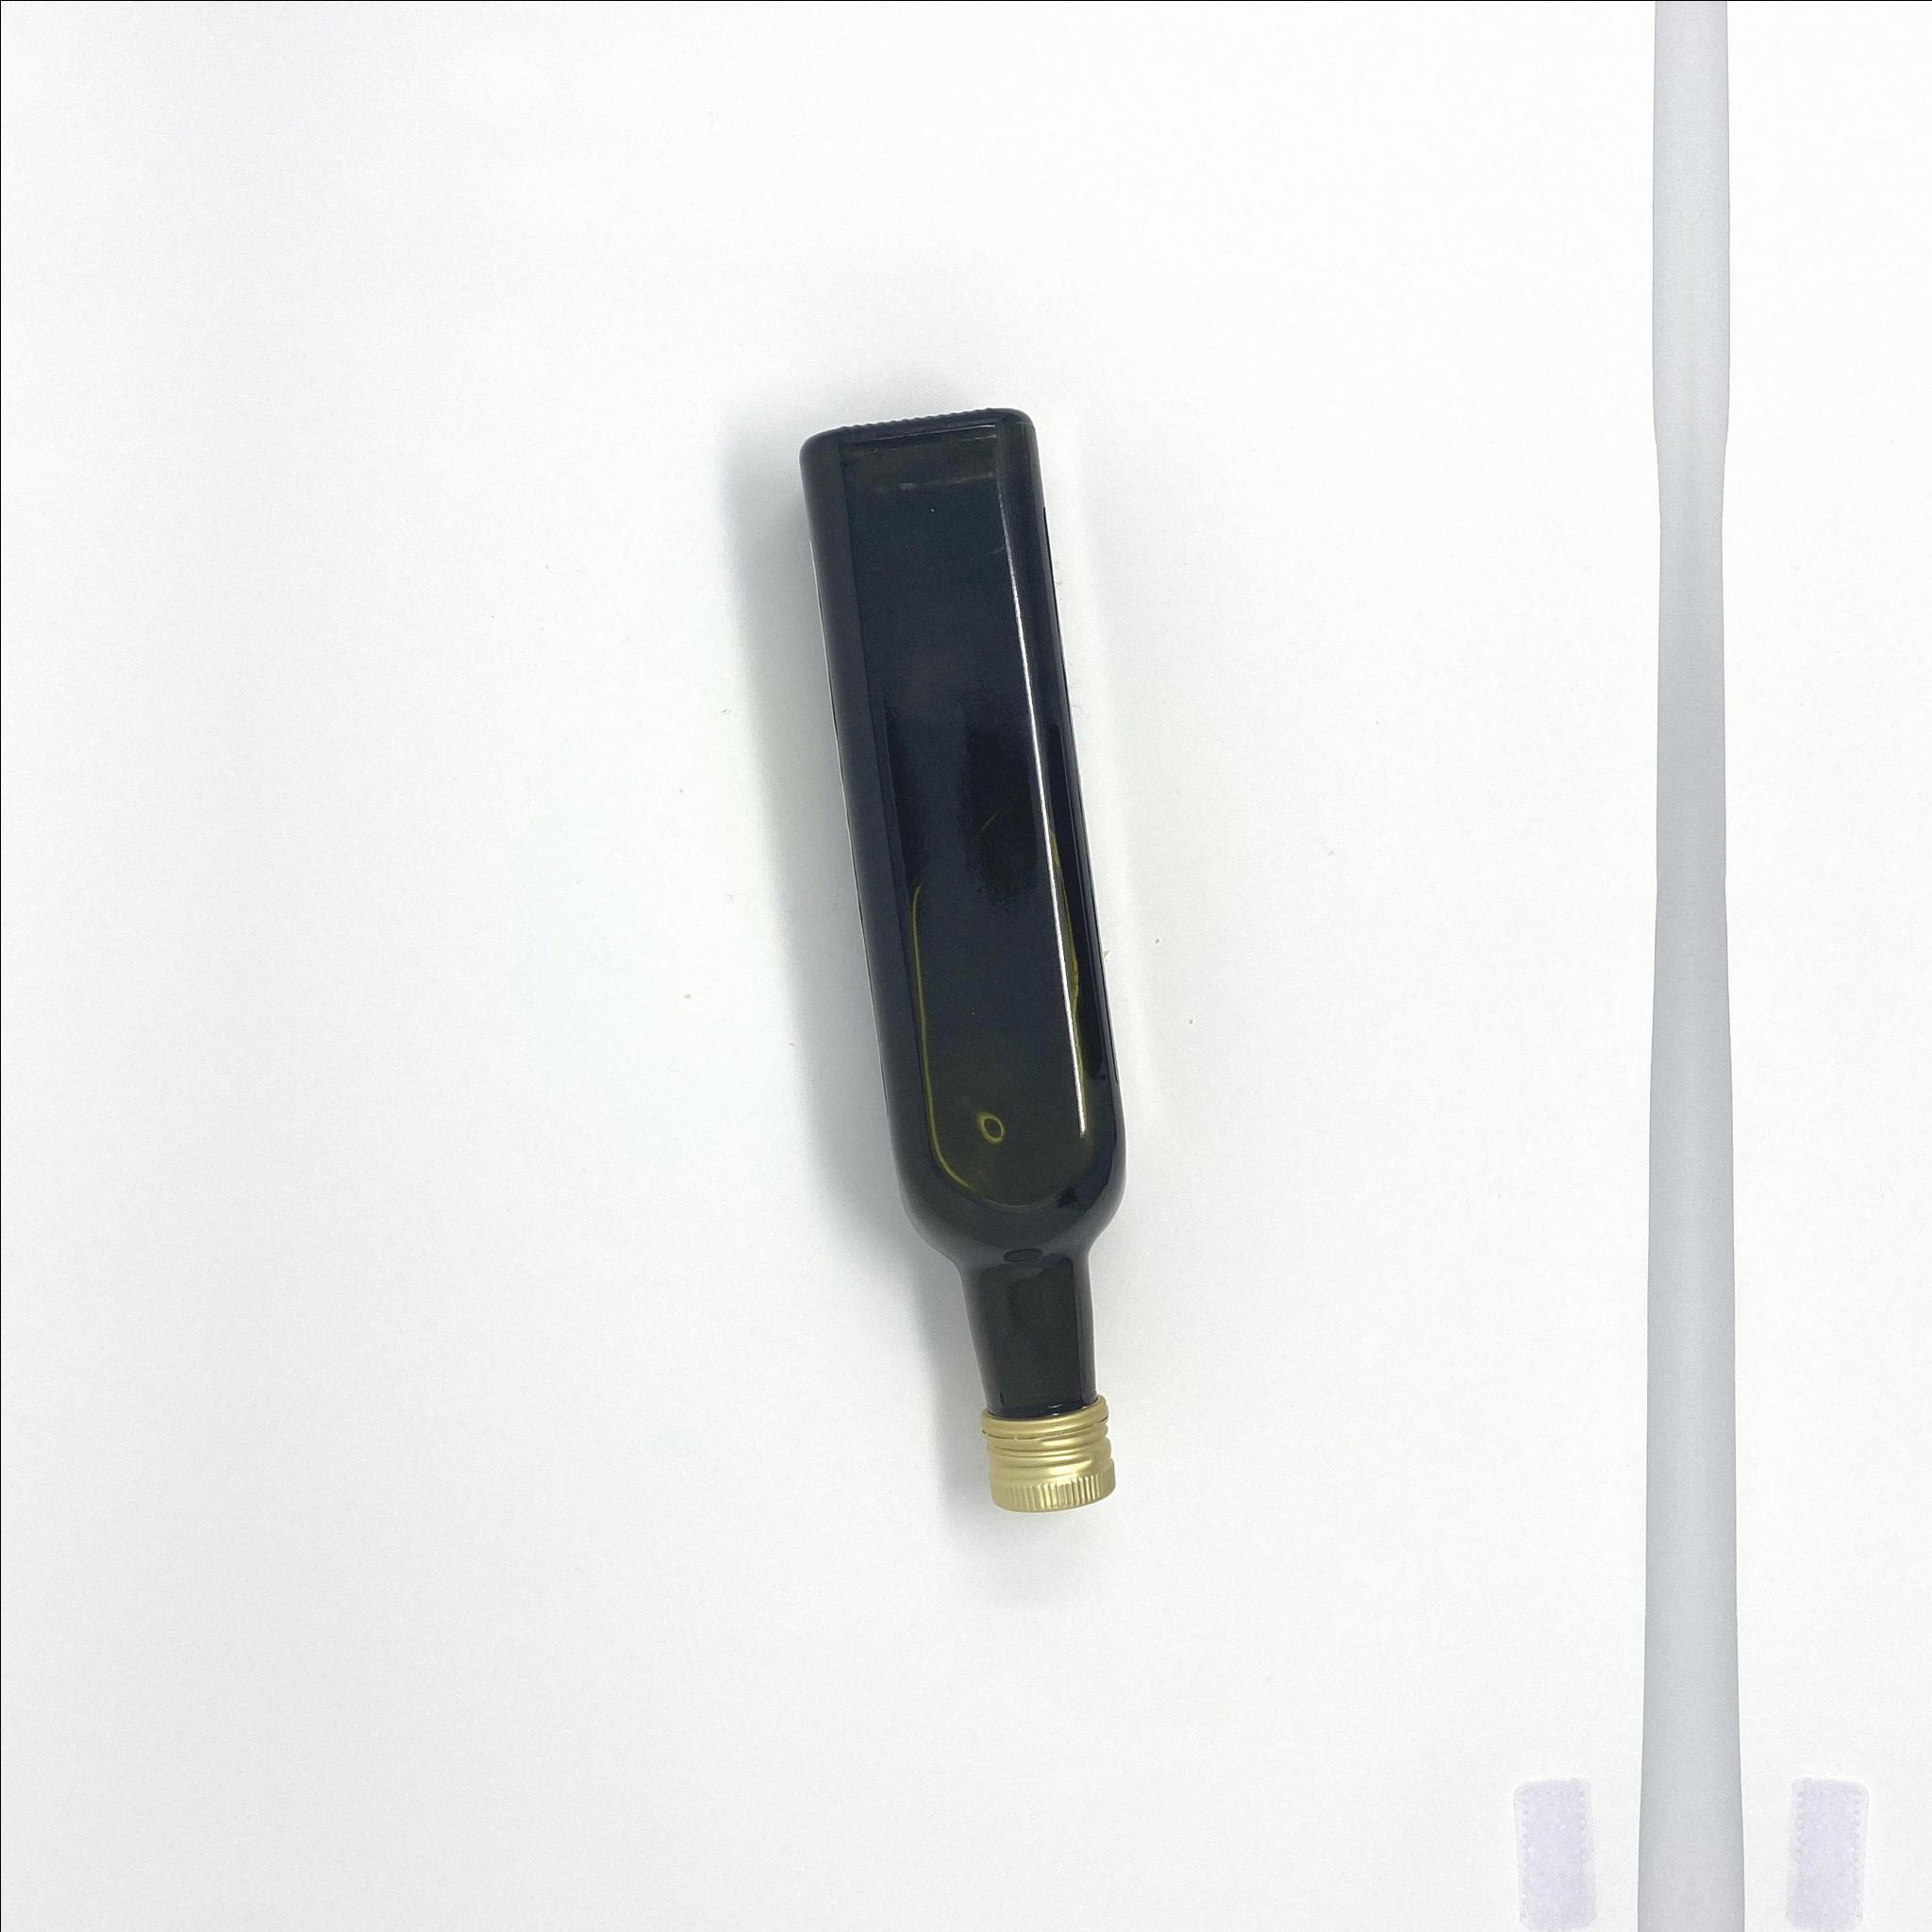glass: (796, 407, 1127, 1514)
oil: (796, 407, 1127, 1514)
sodocalcique: (796, 407, 1127, 1514)
